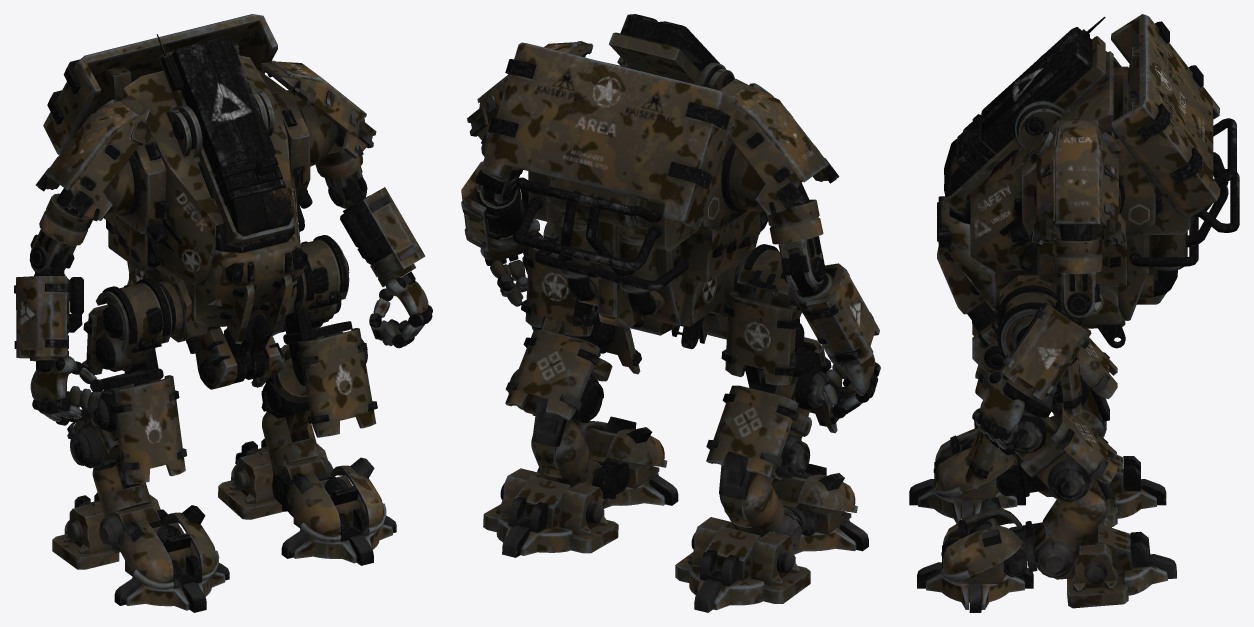
File: Robo.glb
3 renders of one model, left to right at view 1: azimuth 30°, elevation 25°; view 2: azimuth 150°, elevation 25°; view 3: azimuth 270°, elevation 25°, orthographic. The views are drawn at different scales.
Visible parts, largest first — view 1: Object_2; view 2: Object_2; view 3: Object_2.
Part boxes in pixels (x1,y1,x2,y2): Object_2: (14, 14, 432, 612); Object_2: (461, 14, 880, 612); Object_2: (909, 14, 1239, 612).
Size of the model in its own units: 7.64 by 9.37 by 5.49.
Materials: 1 (1 with a texture image).
